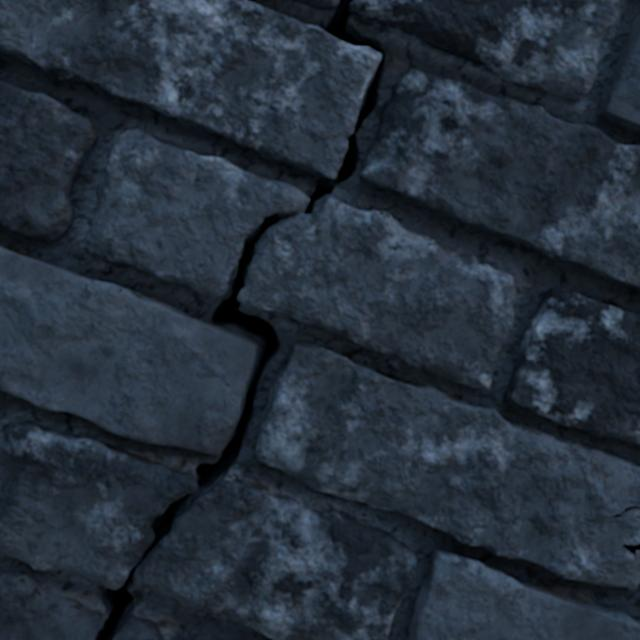broken_brick: (238, 194, 516, 388), (134, 479, 416, 639), (84, 129, 308, 297), (0, 422, 197, 589), (349, 0, 620, 101), (0, 570, 107, 639), (113, 611, 163, 639), (293, 0, 337, 9)
crack: (0, 0, 384, 639), (256, 341, 639, 590), (361, 69, 639, 291), (504, 288, 639, 449), (407, 549, 639, 639), (0, 80, 97, 243), (597, 15, 639, 134), (189, 633, 225, 639), (284, 308, 294, 316), (393, 347, 401, 356), (338, 331, 346, 336), (368, 339, 373, 345)
